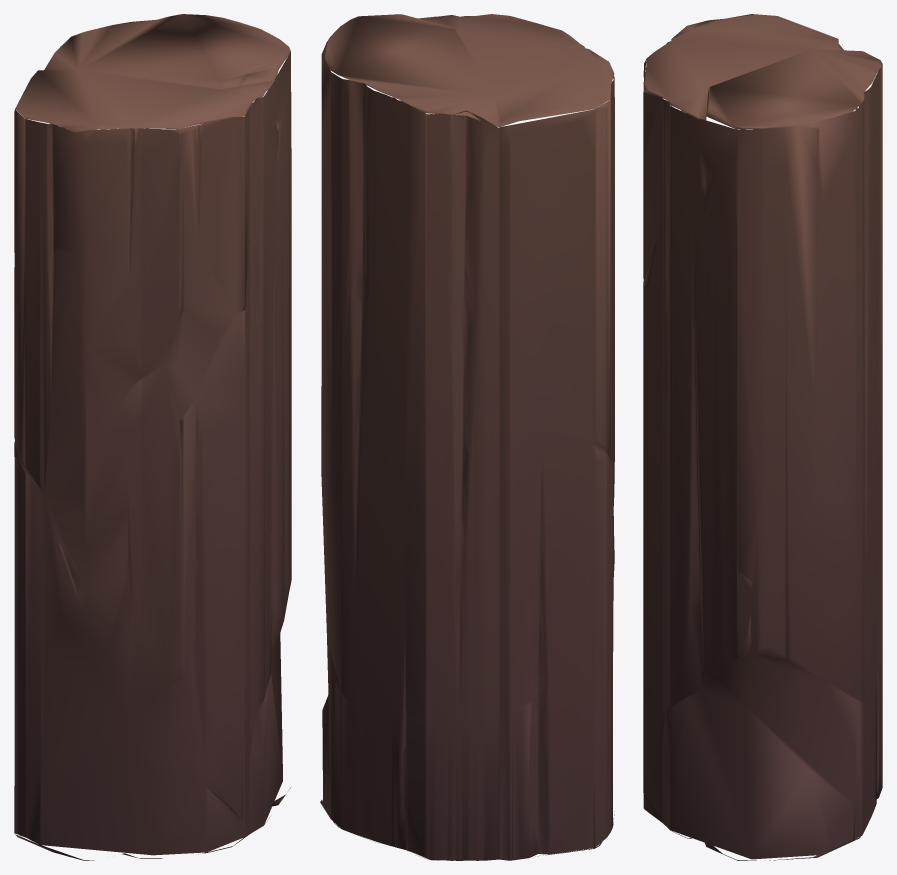
File: lb_pillar_hell.glb
The picture shows the model from 3 angles, left to right: view 1: azimuth 30°, elevation 25°; view 2: azimuth 150°, elevation 25°; view 3: azimuth 270°, elevation 25°; orthographic projection. The views are drawn at different scales.
Visible parts, largest first — view 1: geometry_0; view 2: geometry_0; view 3: geometry_0.
Boxes of the visible parts, box(x1,y1,x2,y2) form: geometry_0: box(14, 14, 291, 860); geometry_0: box(320, 14, 614, 860); geometry_0: box(643, 14, 882, 860).
Size of the model in its own units: 12.97 by 34.97 by 10.33.
